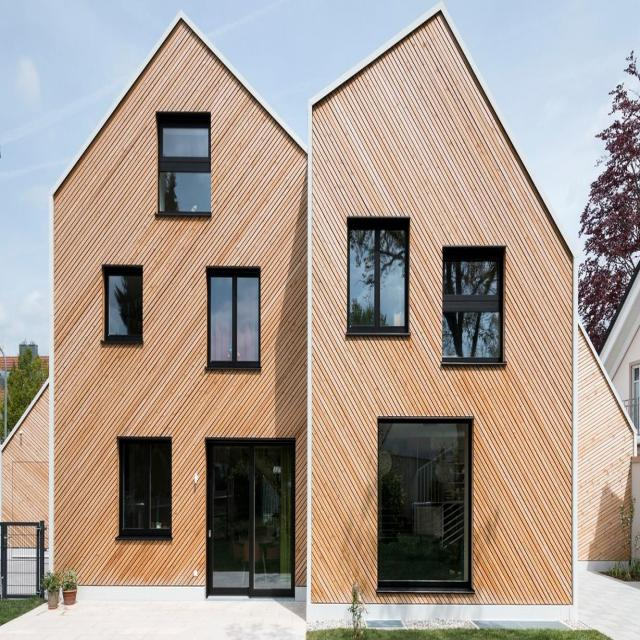door: (213, 447, 293, 596)
plant: (576, 58, 640, 356), (0, 342, 47, 448)
wall: (1, 1, 638, 622)
windows: (378, 426, 471, 588), (350, 228, 410, 334), (444, 255, 499, 358), (212, 275, 262, 365), (124, 447, 172, 531), (162, 130, 210, 214), (107, 272, 143, 336)
